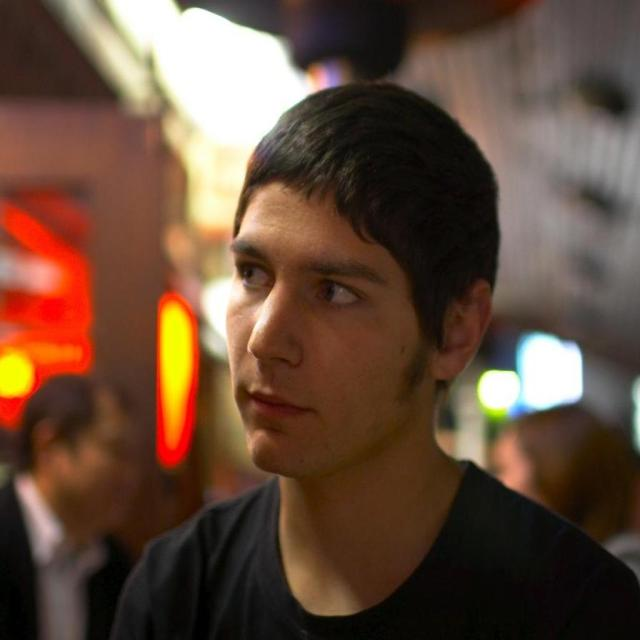no-glass: (226, 255, 368, 312)
